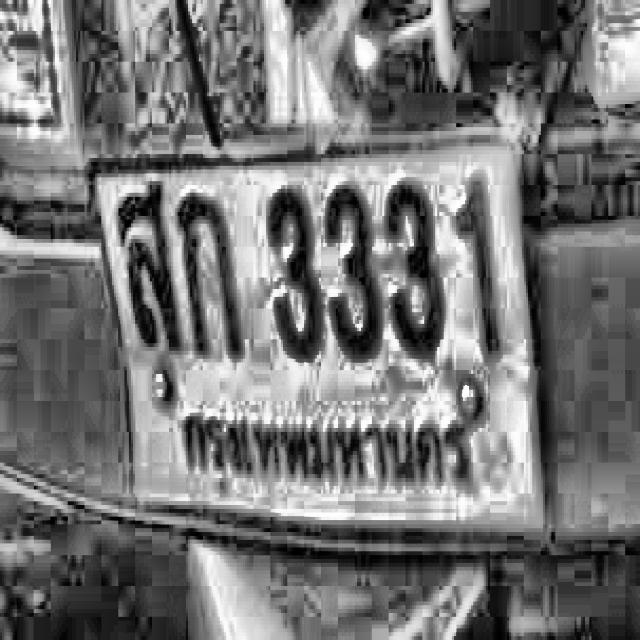license-plate: (65, 131, 591, 562)
